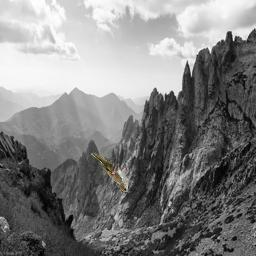Cuckoo: (91, 153, 132, 194)
